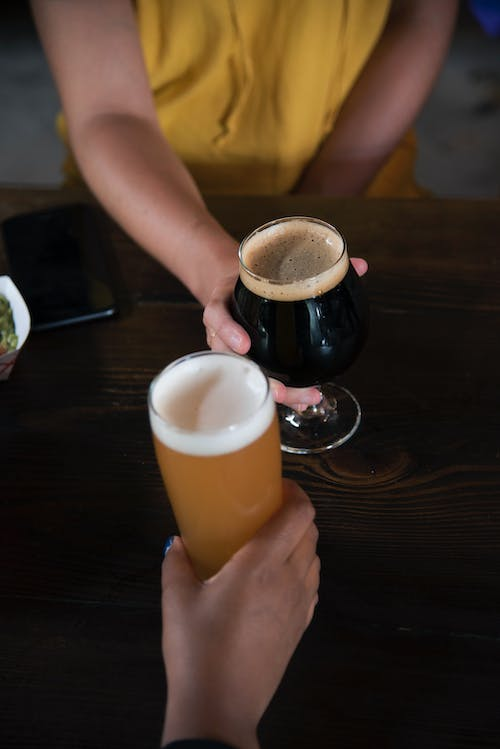alcohol: (230, 214, 374, 457), (143, 347, 284, 583)
